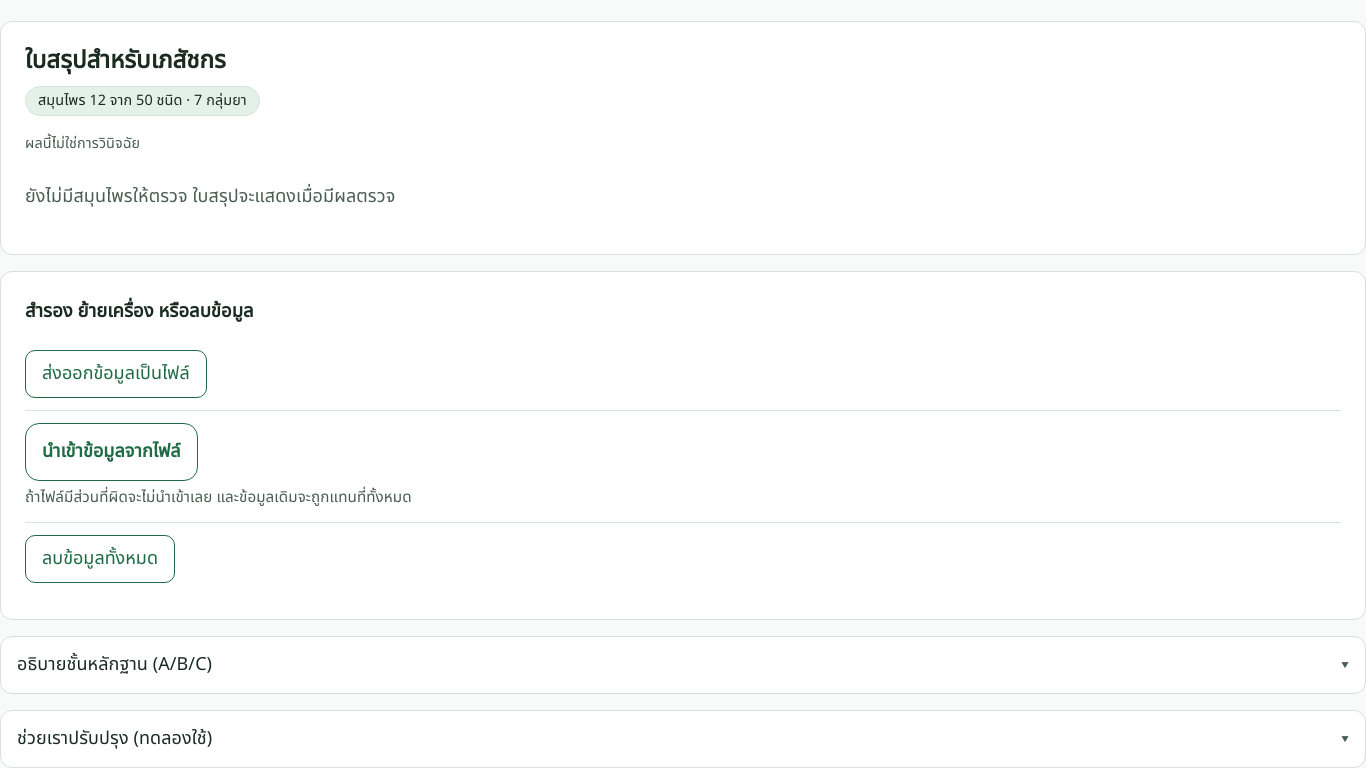
ส่งออก/นำเข้า/ลบ › ลบในเครื่องไม่สำเร็จ: ไม่แจ้งว่าลบแล้ว
(page scrolled)
Click the button "ลบข้อมูลทั้งหมด" at (100, 559), box [25, 535, 175, 583]
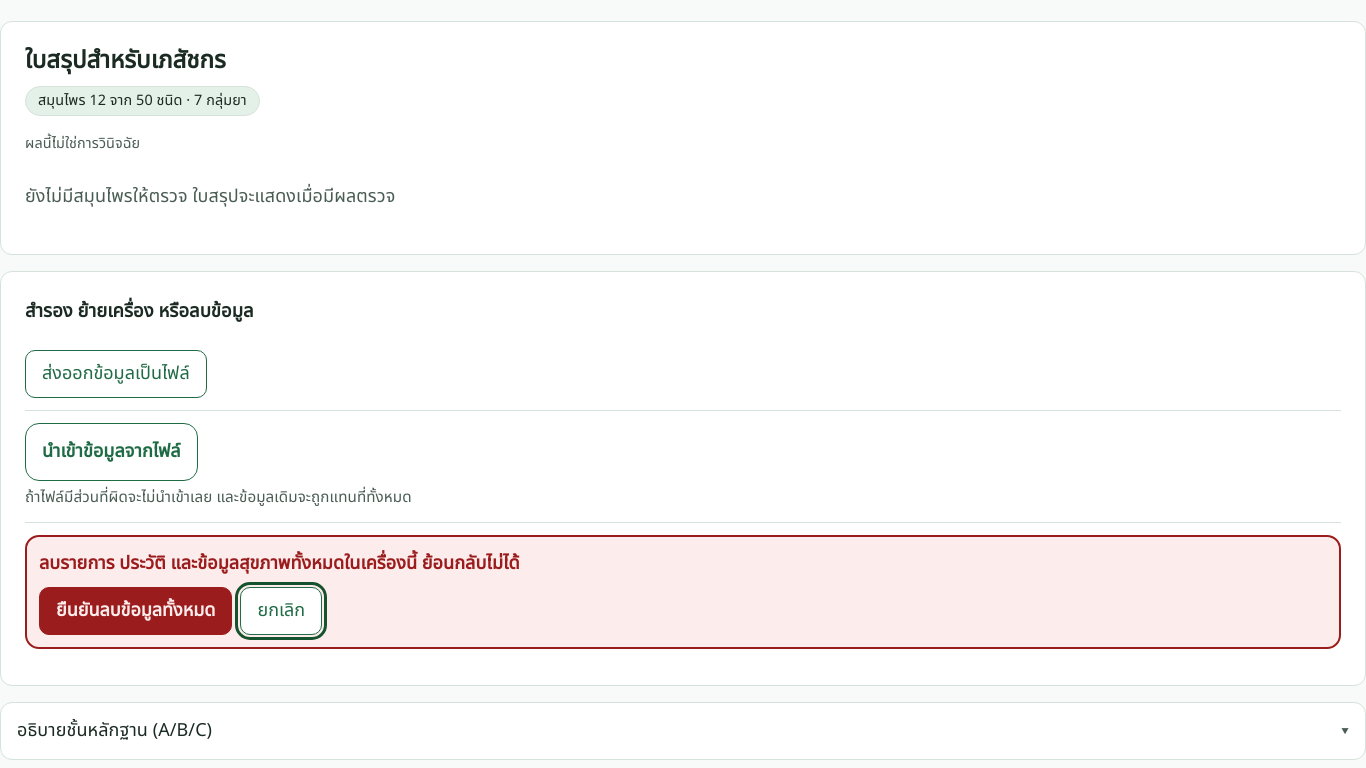
Click the button "ยืนยันลบข้อมูลทั้งหมด" at (136, 611), box [39, 587, 232, 635]
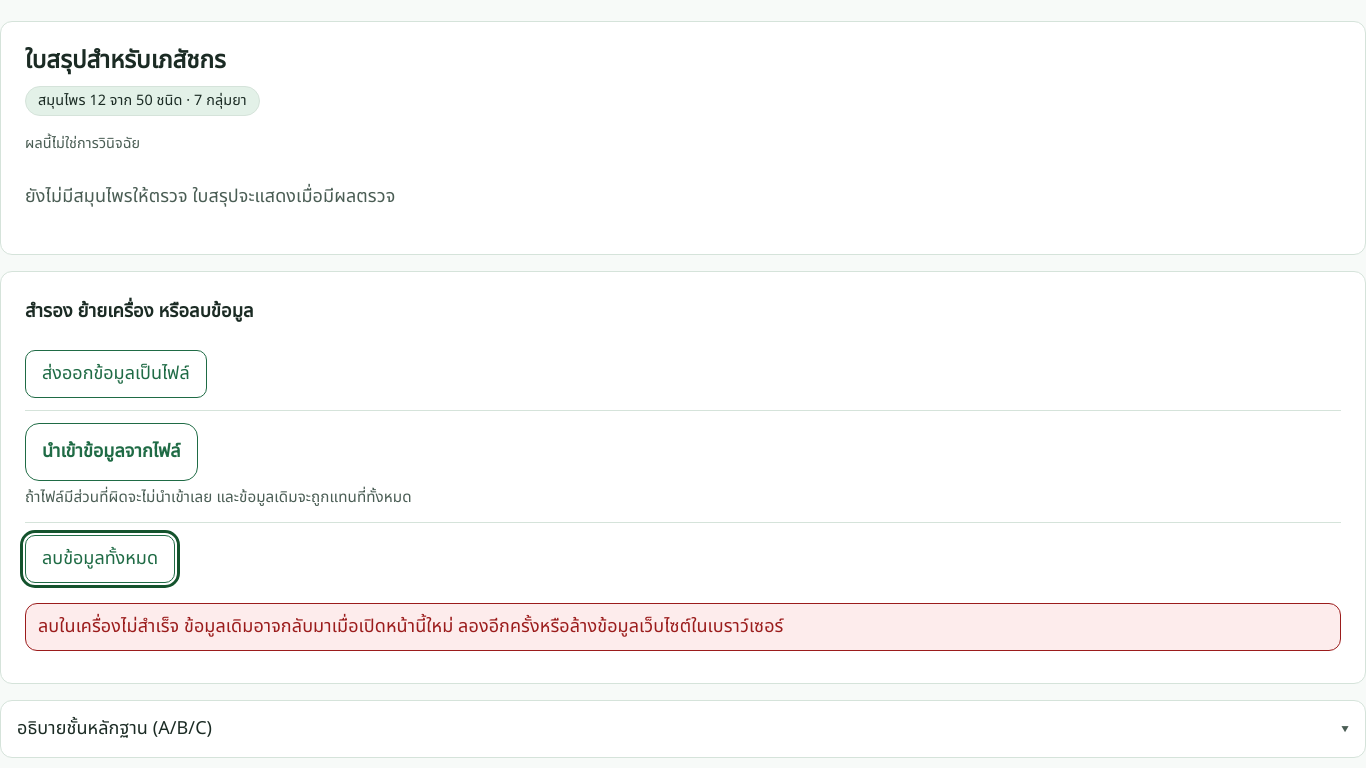
Expected: the message shows "ลบในเครื่องไม่สำเร็จ", [38, 613, 784, 640]
